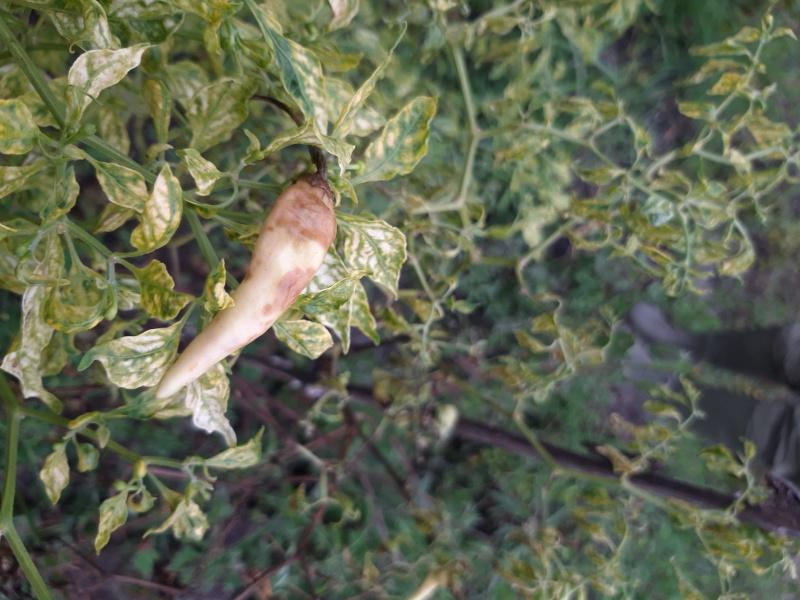lalat_buah: (154, 173, 336, 399)
